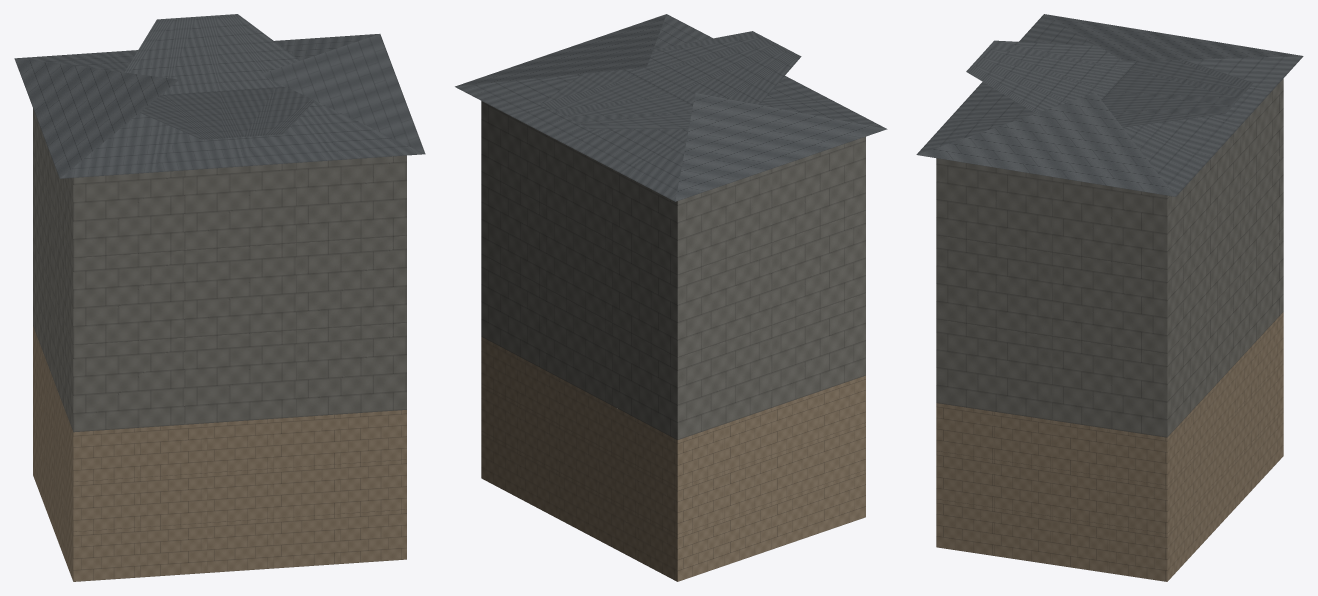
Rendered from bld_c9_7_515.gltf.
The picture shows the model from 3 angles, left to right: view 1: azimuth 30°, elevation 25°; view 2: azimuth 150°, elevation 25°; view 3: azimuth 270°, elevation 25°; orthographic projection. The views are drawn at different scales.
Parts seen in each view (by area): view 1: bld_c9_7_515; view 2: bld_c9_7_515; view 3: bld_c9_7_515.
Boxes of the visible parts, x1=… form: bld_c9_7_515: x1=14, y1=14, x2=425, y2=581; bld_c9_7_515: x1=455, y1=14, x2=887, y2=581; bld_c9_7_515: x1=916, y1=14, x2=1303, y2=581.
Size of the model in its own units: 13.87 by 15 by 12.41.
Materials: 3 (3 with a texture image).
